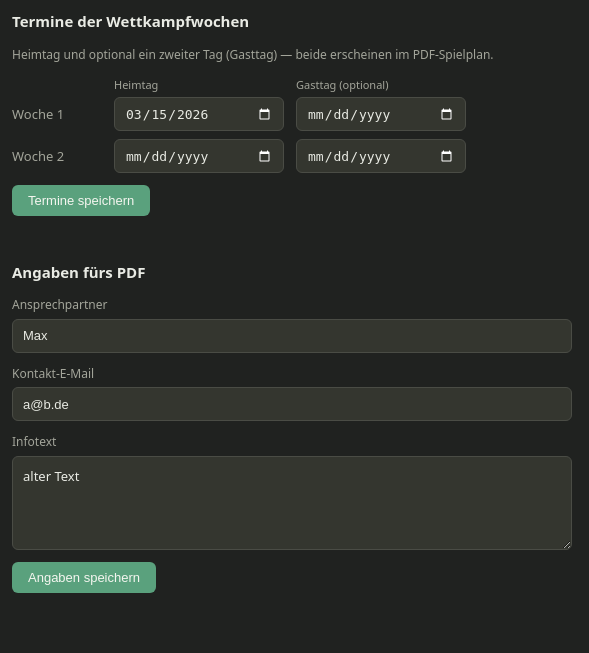
Test case: DatesInfoTab › saves the info fields
Replace the text in the field showing "Max" with "Erika": (292, 336) [12,319,572,353]
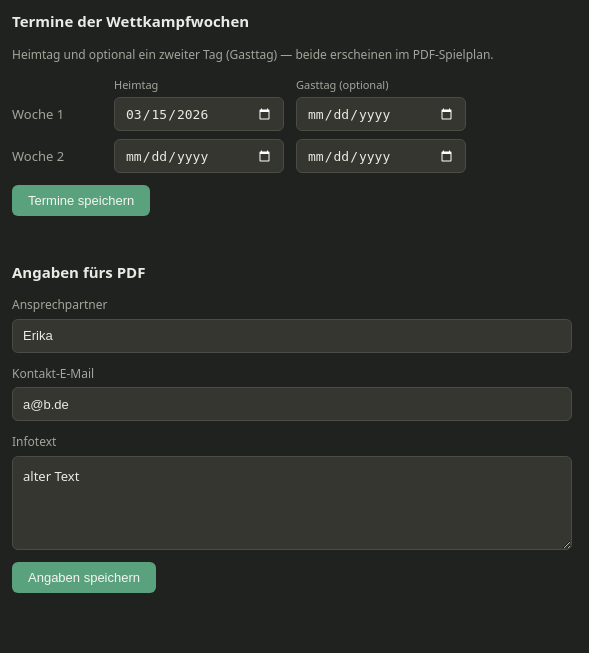
Click the button "Angaben speichern": (84, 577) [12,562,156,593]
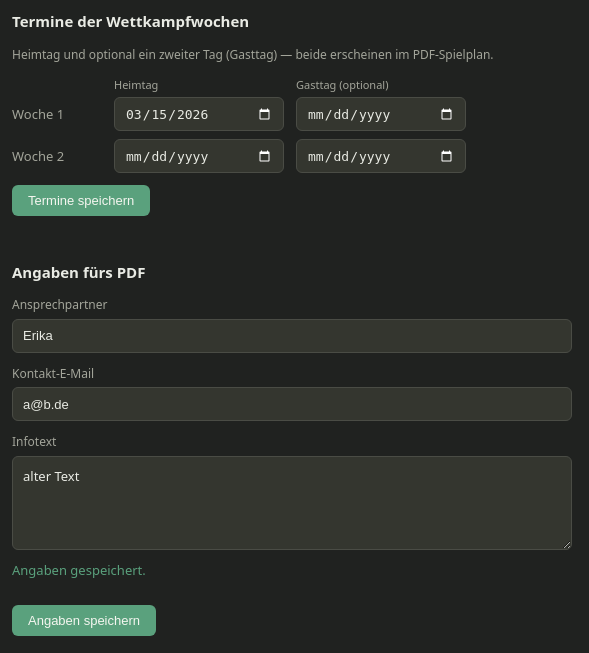
Check: the text "Angaben gespeichert." is shown, box [12,561,146,579]
